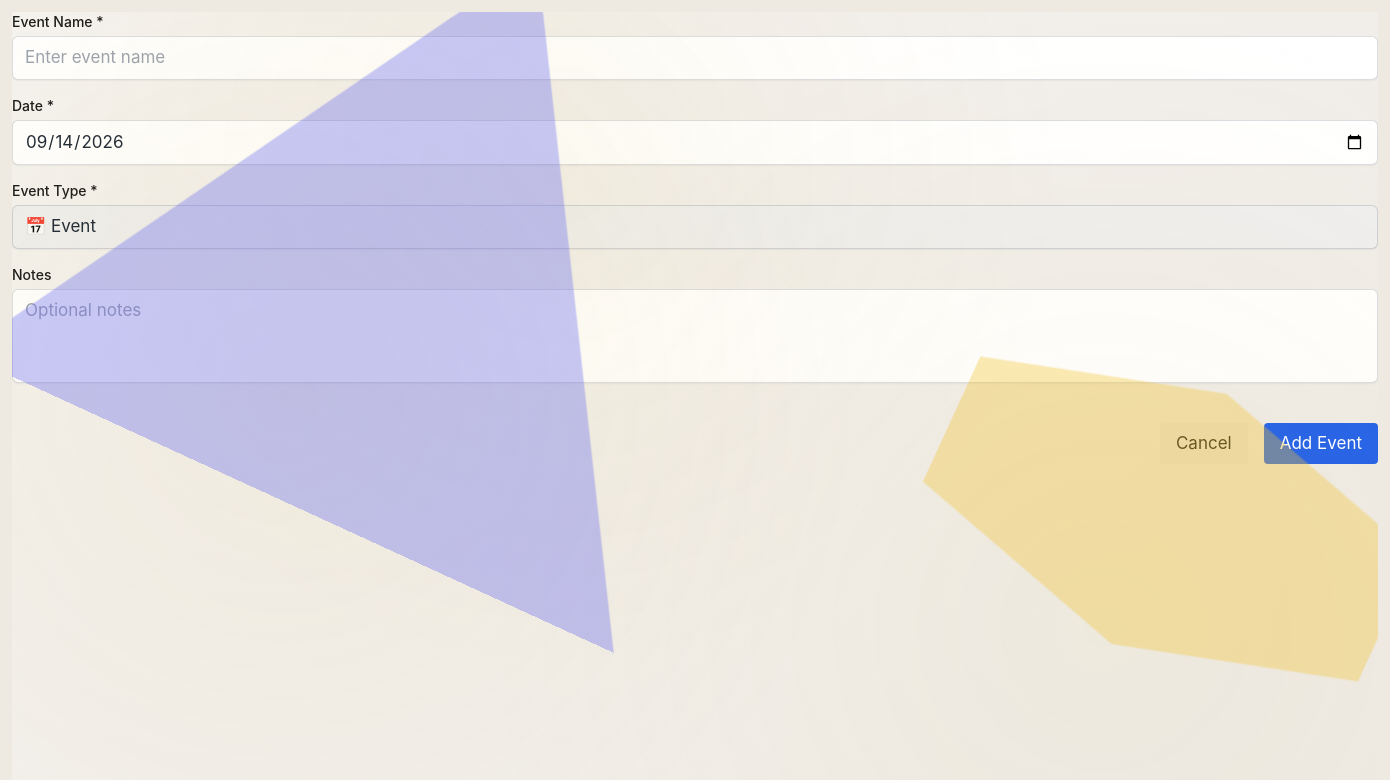
CalendarEventModal › User Interactions › should disable form during submission
Note: Fill form
Type "Test Event" into the field labelled "Event Name *" at (695, 58), box [12,36,1378,80]
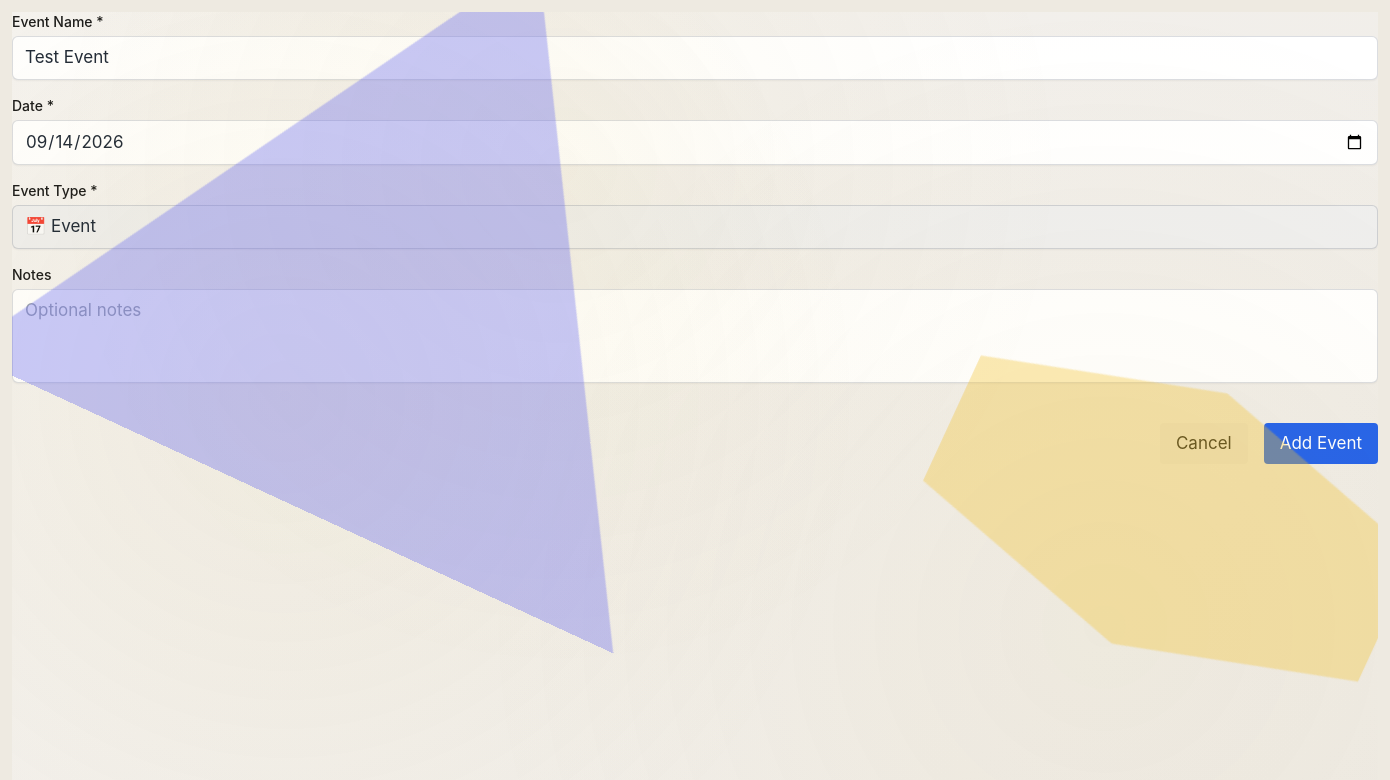
Note: Submit form
Click the button "Add Event" at (1321, 443), box [1264,422,1378,464]
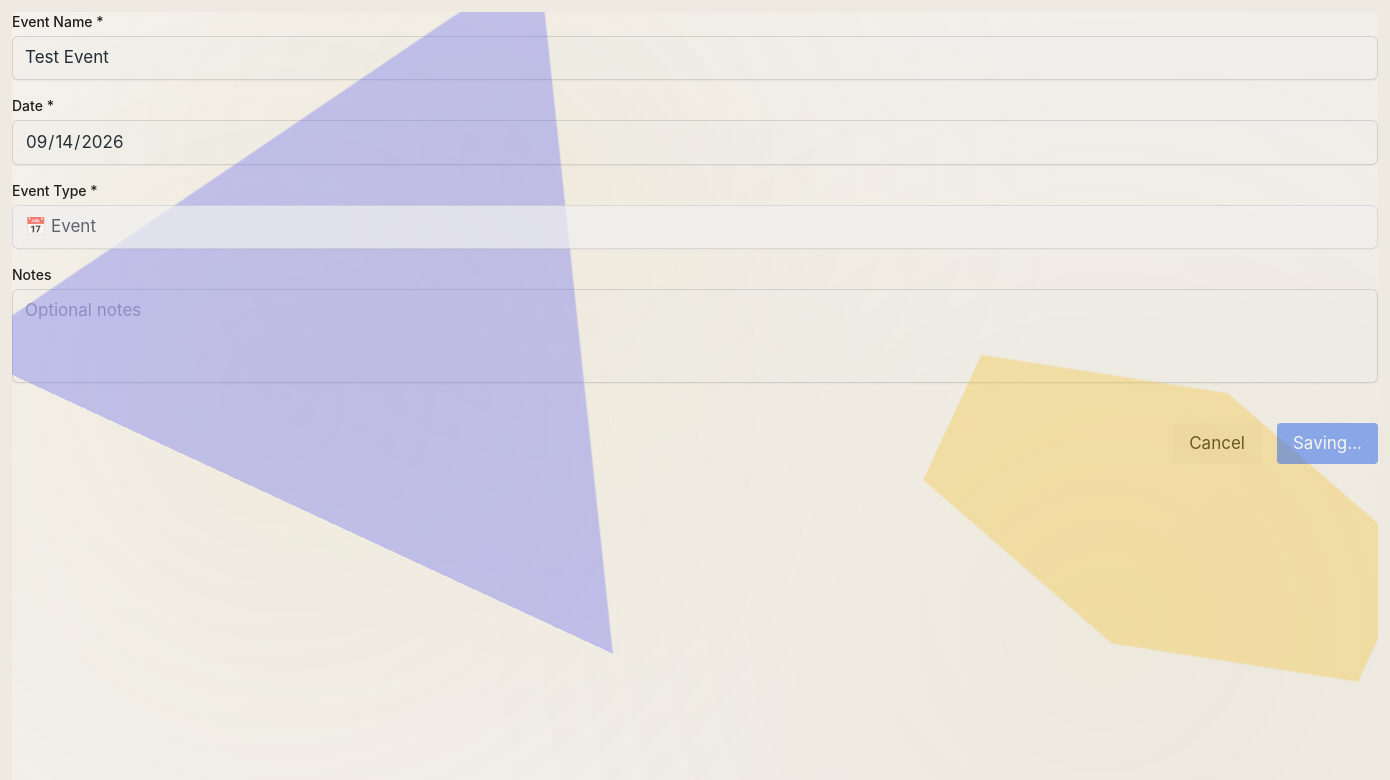
Result: the field labelled "Event Name *" is disabled at [12,36,1378,80]
Result: the button named "Add Event" is disabled at [1277,422,1378,464]
